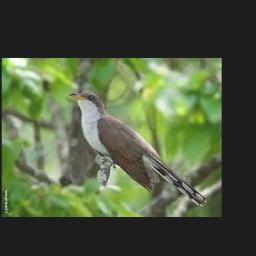Cuckoo: (70, 91, 207, 207)
